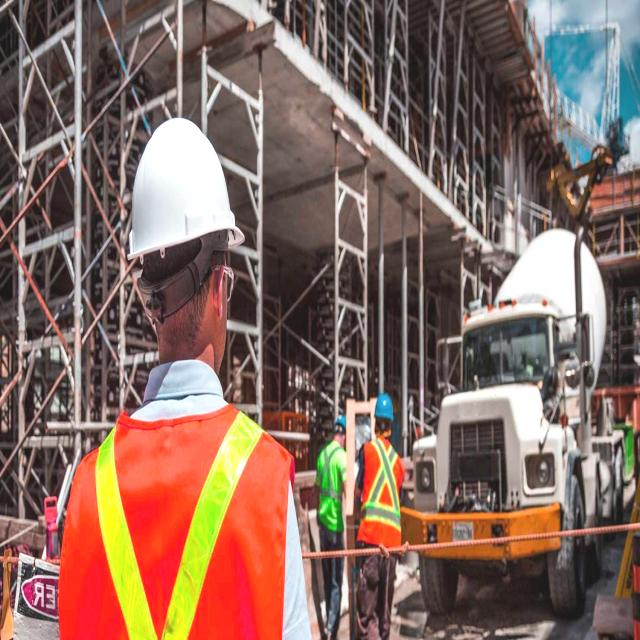face_nomask: (185, 243, 241, 362)
head_helmet: (126, 109, 245, 259), (374, 391, 396, 422), (334, 415, 347, 429)
person: (59, 119, 308, 640), (354, 392, 404, 640), (314, 416, 348, 638)
